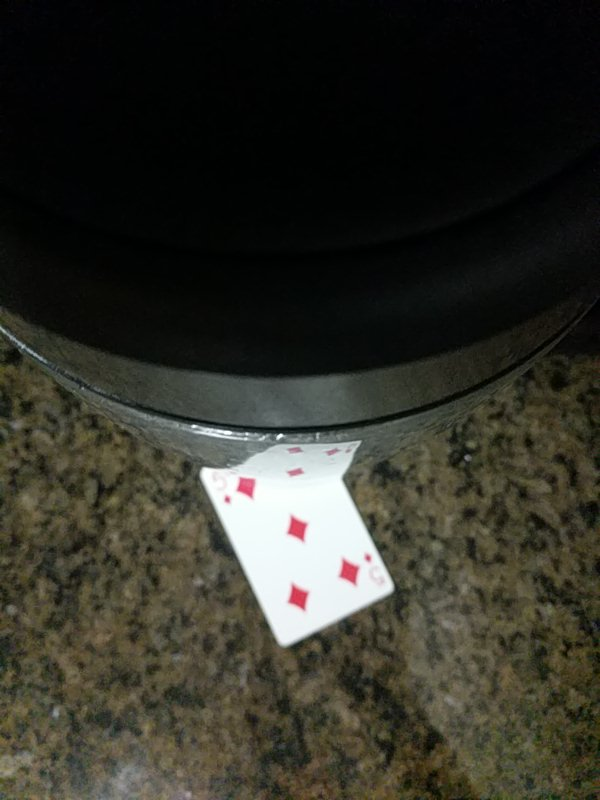Diamonds: (200, 452, 394, 648)
